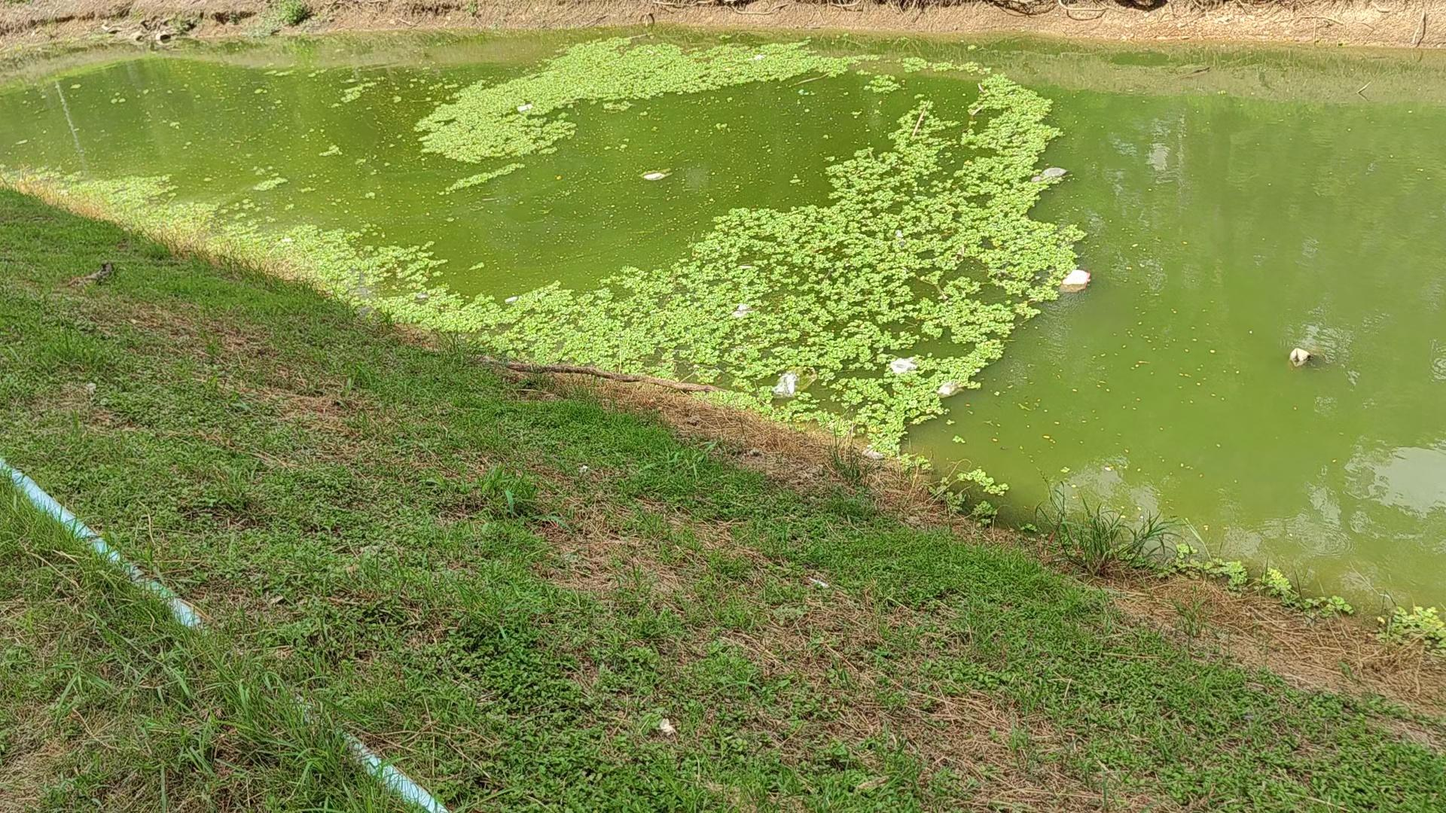trash: (1061, 268, 1091, 291), (773, 372, 798, 397), (889, 358, 917, 373), (1289, 348, 1310, 366), (1036, 167, 1066, 179), (938, 380, 960, 396), (731, 303, 754, 318), (642, 170, 669, 181), (517, 103, 532, 112), (279, 236, 293, 243), (505, 297, 520, 303), (754, 53, 764, 60), (740, 265, 755, 269)
